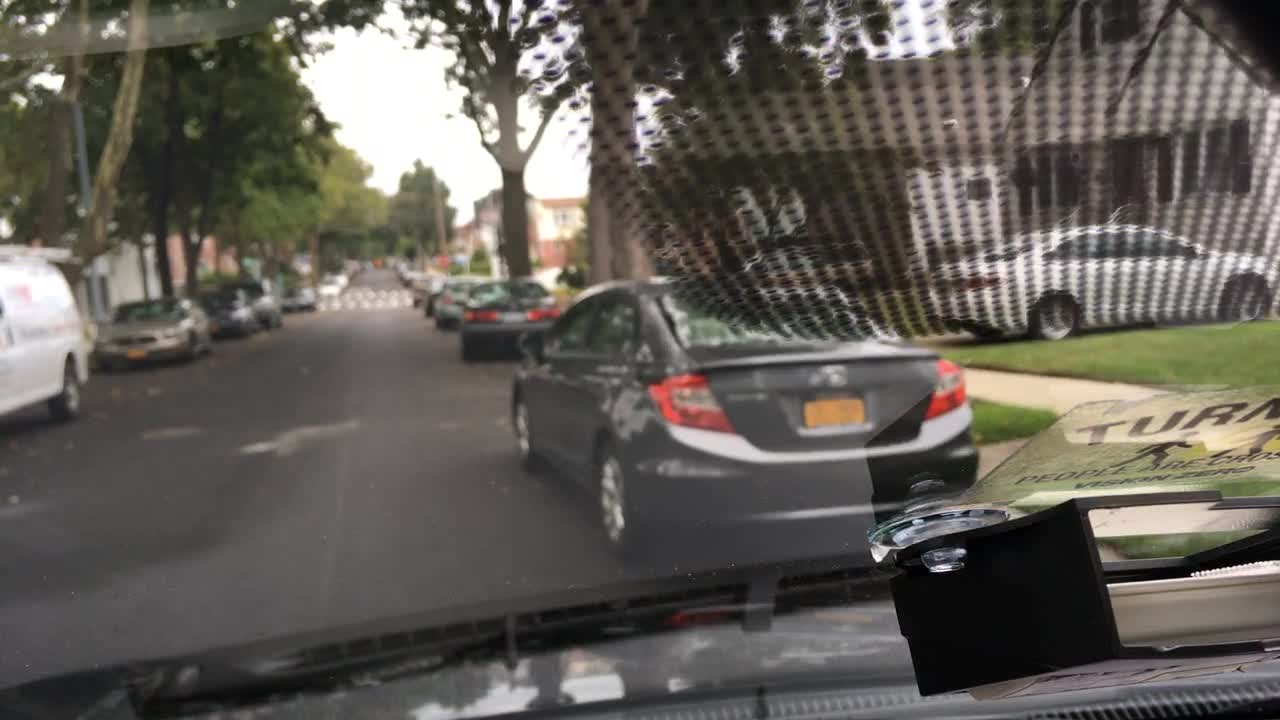car: (509, 275, 981, 563), (918, 221, 1275, 343), (0, 247, 90, 434), (90, 292, 217, 376), (453, 276, 560, 366), (738, 233, 882, 292), (219, 275, 282, 329), (196, 285, 259, 339), (432, 278, 485, 331), (422, 278, 464, 322), (279, 280, 319, 313), (410, 268, 443, 308), (314, 280, 341, 297), (392, 254, 408, 282), (397, 269, 418, 287), (333, 271, 350, 290), (348, 257, 364, 275)
